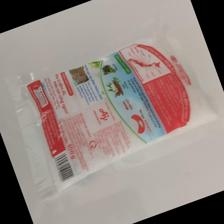Ajinomoto: (21, 36, 215, 199)
